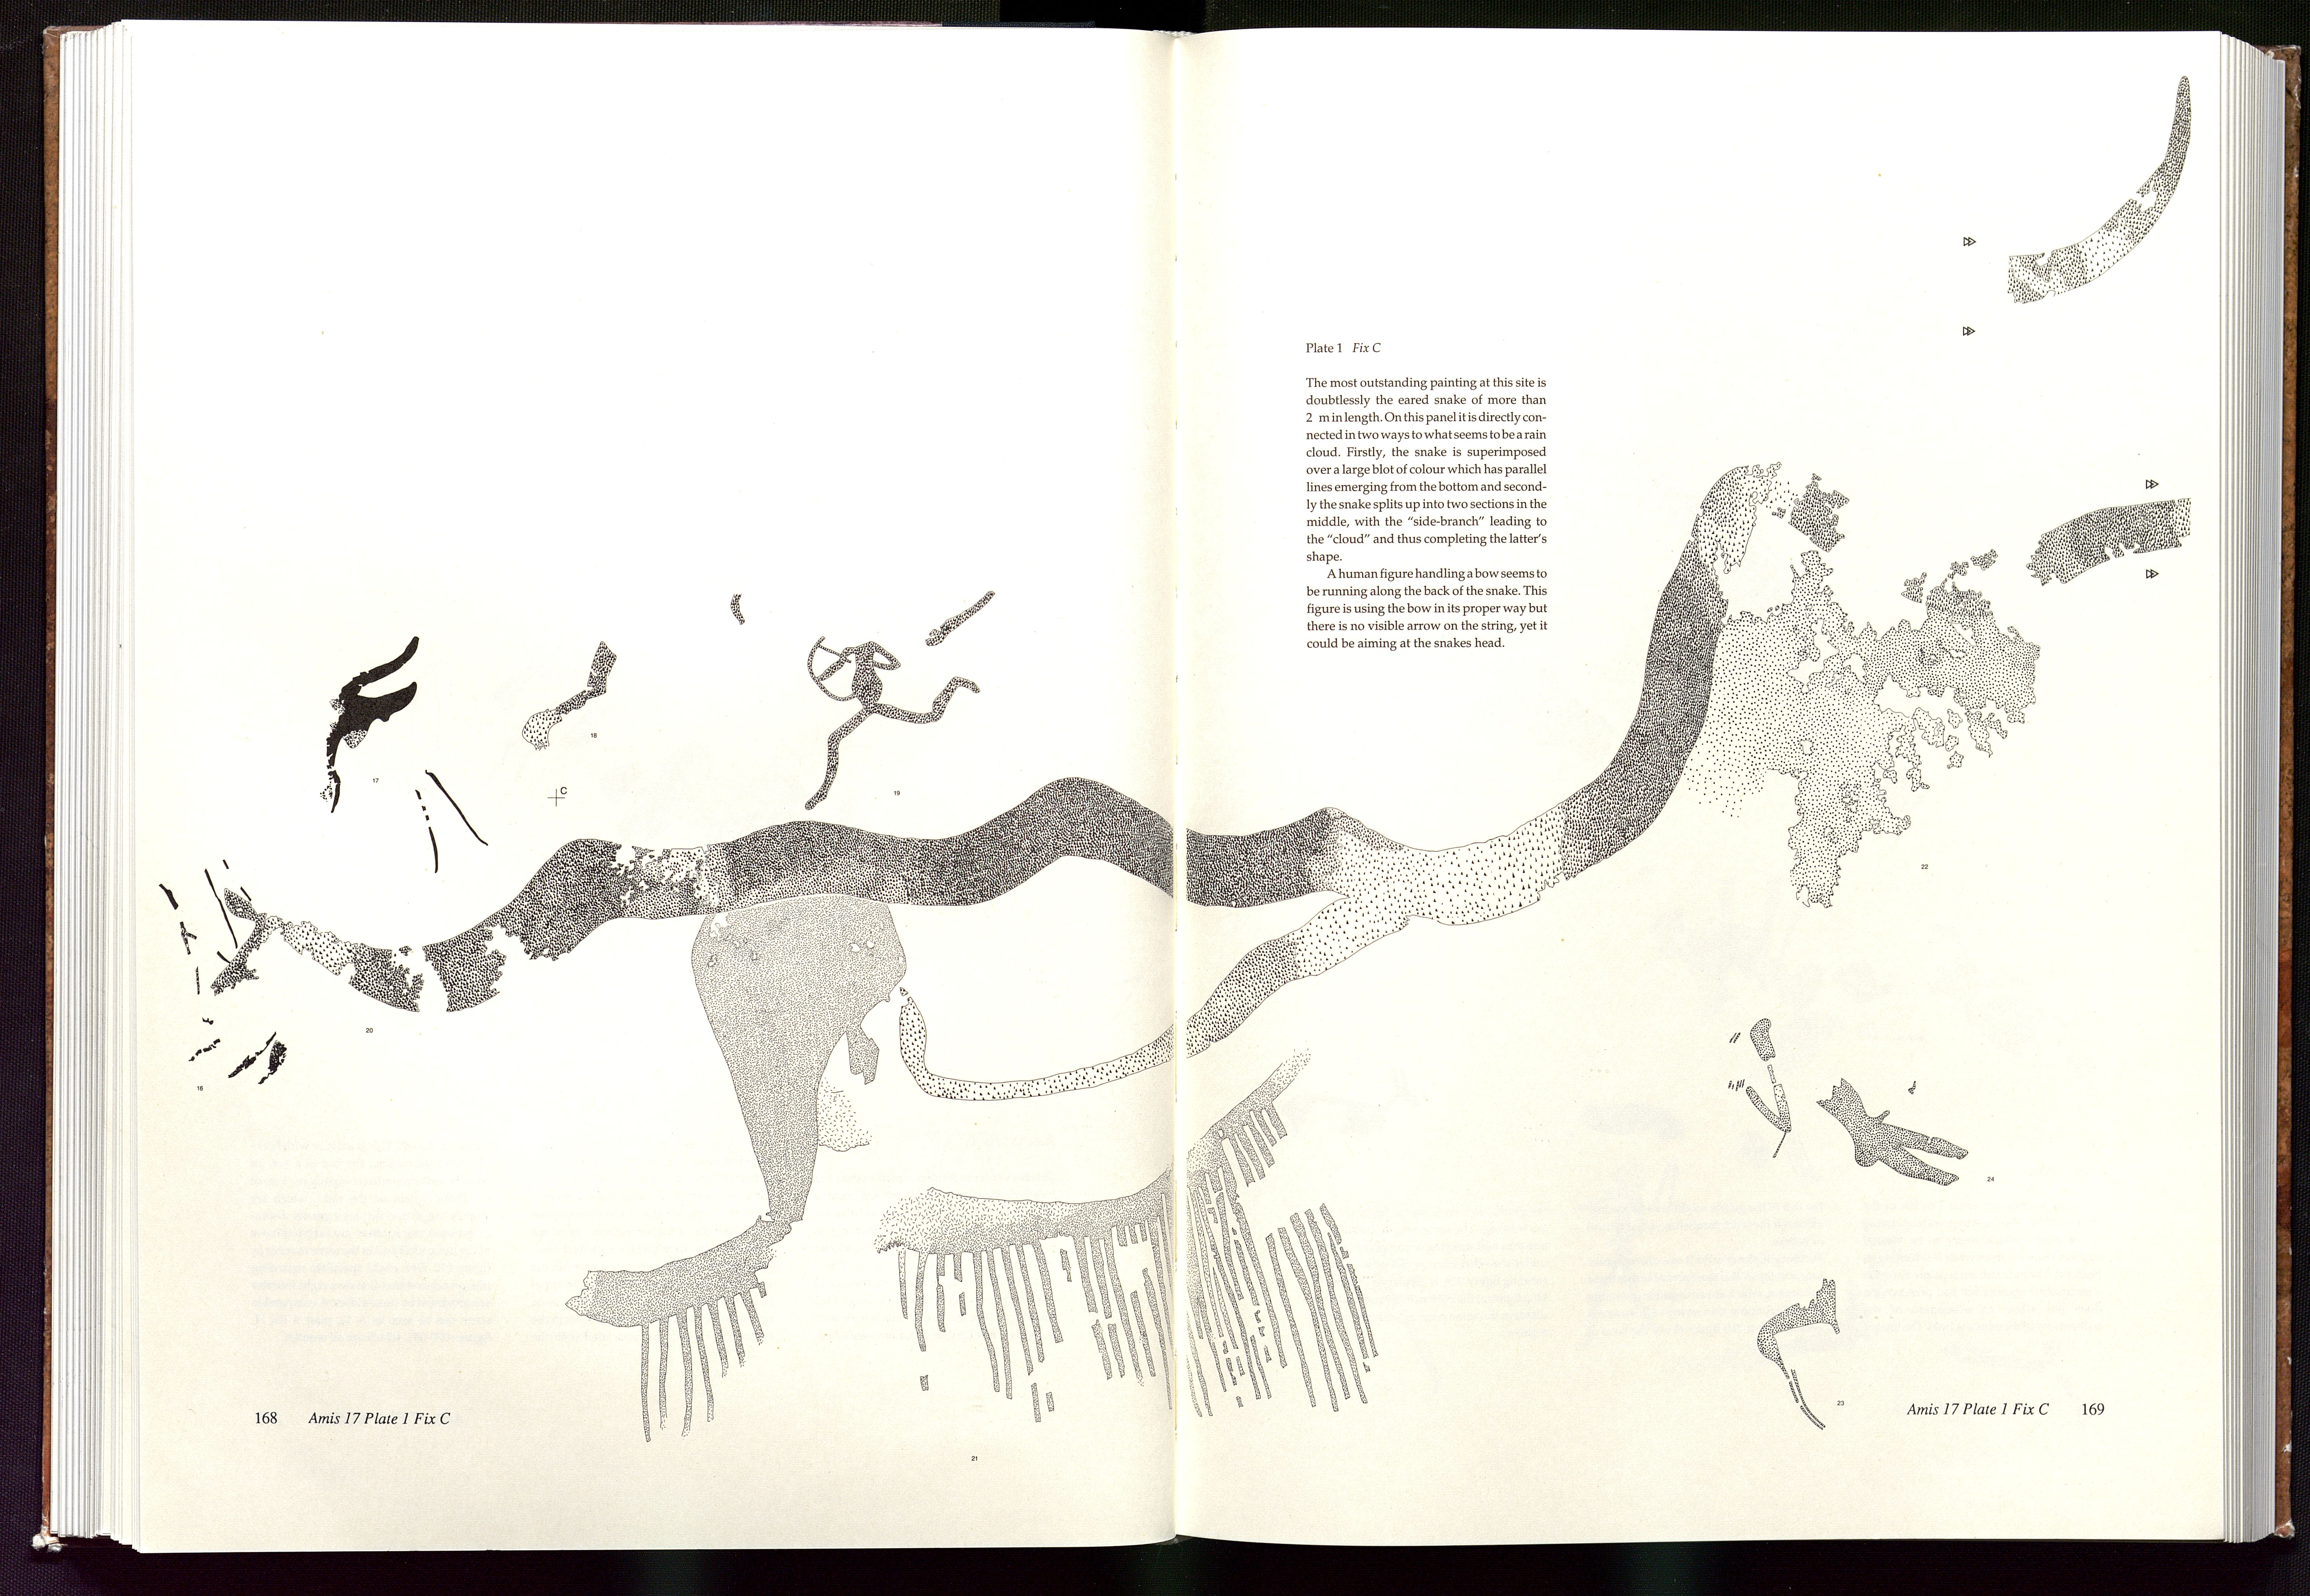human: (785, 627, 994, 816)
